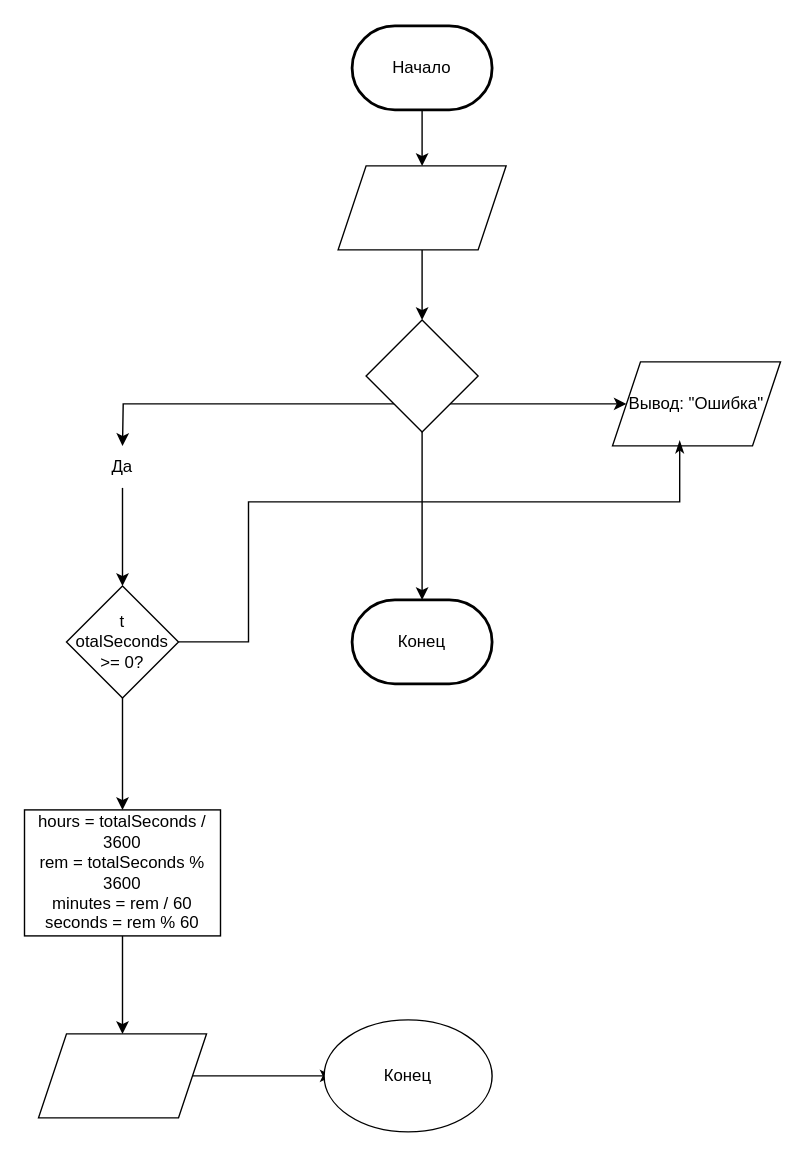
This 805x1156 diagram has some shape labels left out. The centre of each missing label's shape, as x and y in pixels:
"totalSeconds" belongs at point (421, 207).
"Ввод — целое число?" belongs at point (421, 375).
"Вывод hours, minutes, seconds ." belongs at point (121, 1075).
